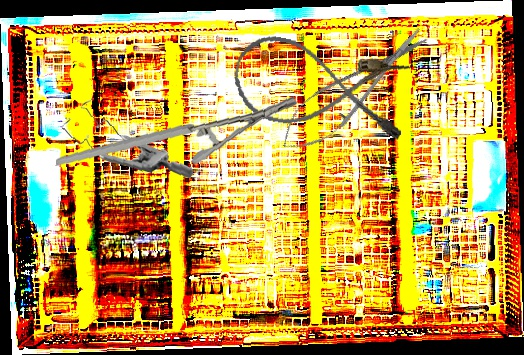Cannula: (226, 30, 415, 146)
Micro Scissor: (269, 15, 438, 165)
Needle Holder: (55, 74, 298, 187)
Speculum: (59, 88, 194, 191)
